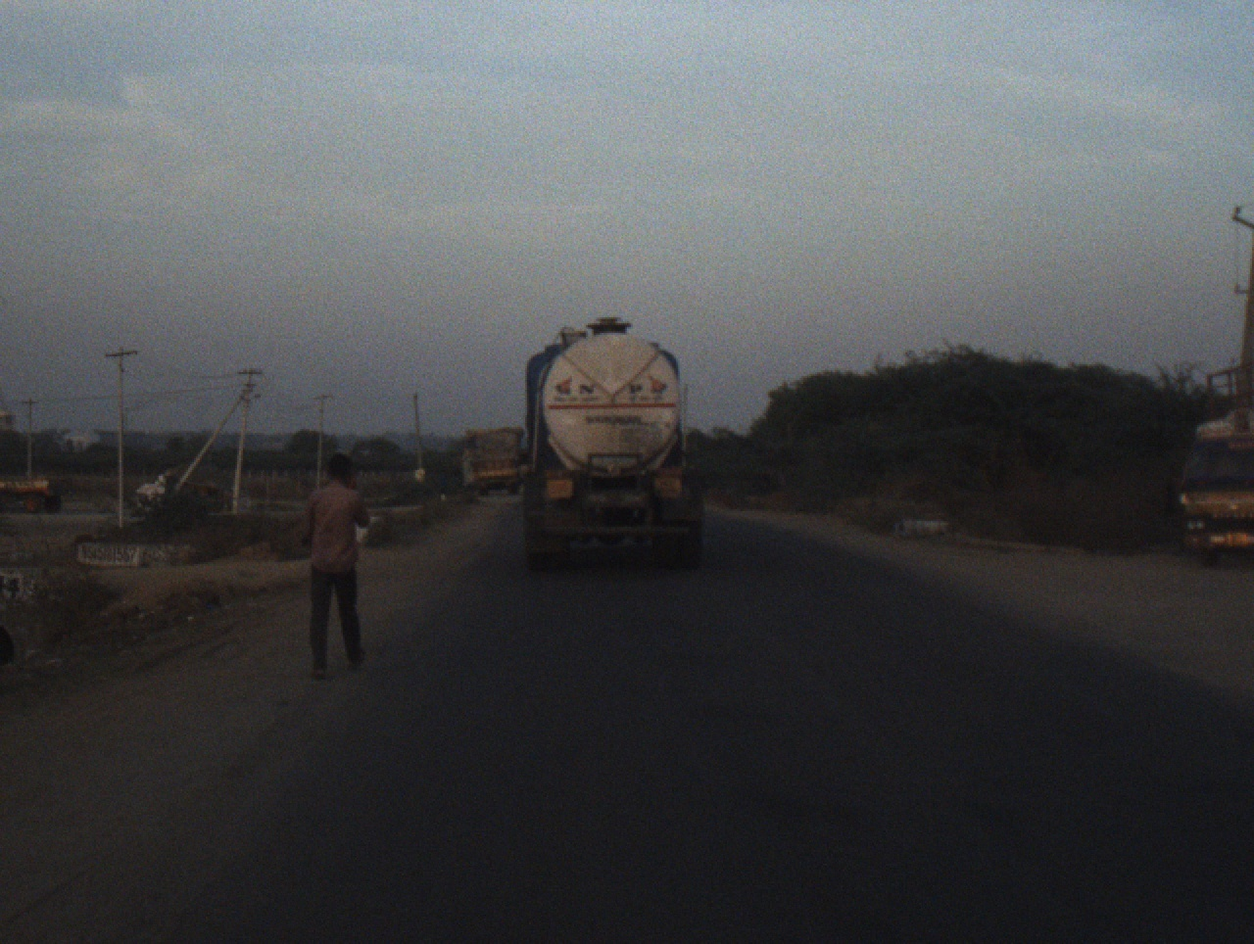person: (301, 450, 379, 690)
truck: (511, 313, 703, 578), (1177, 354, 1252, 576), (458, 415, 522, 500)
vehicle fallback: (1, 469, 66, 499)
